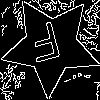F: (26, 20, 66, 72)
